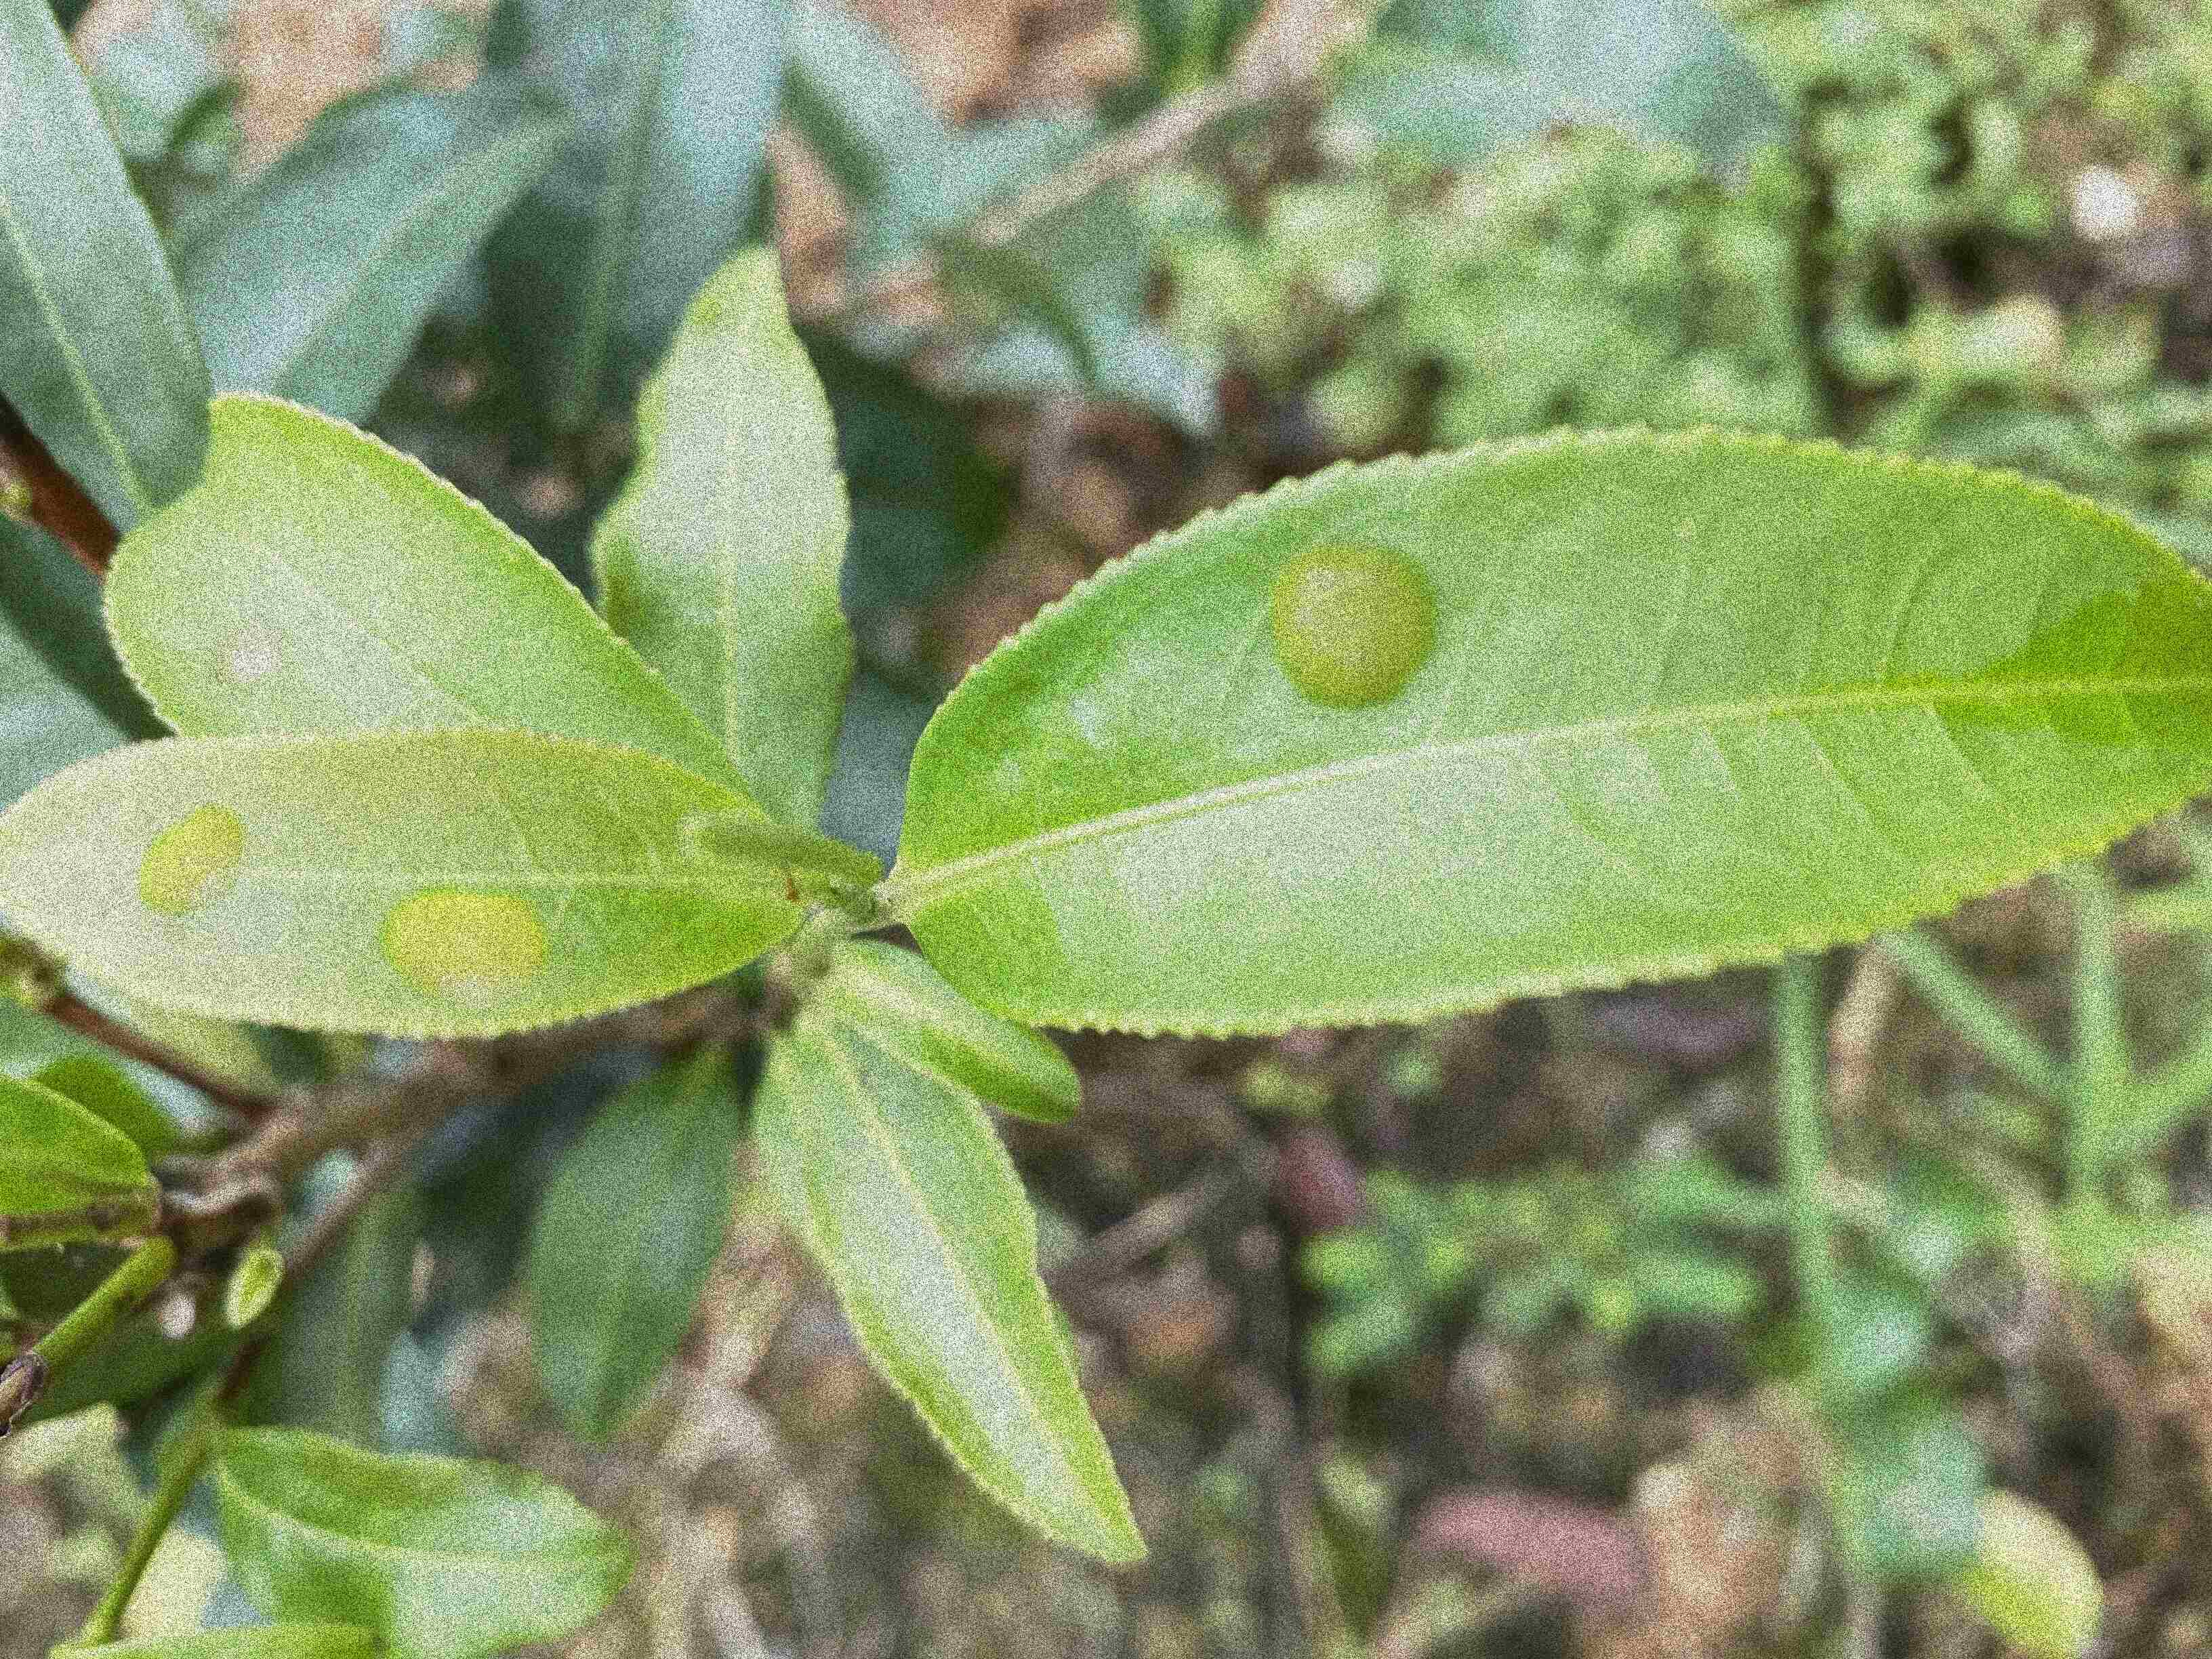chabing_high: (0, 725, 808, 1042)
chabing_low: (899, 418, 2209, 1040), (101, 387, 759, 807)
healthy: (594, 246, 859, 823), (209, 1427, 639, 1654), (817, 938, 1085, 1122)
